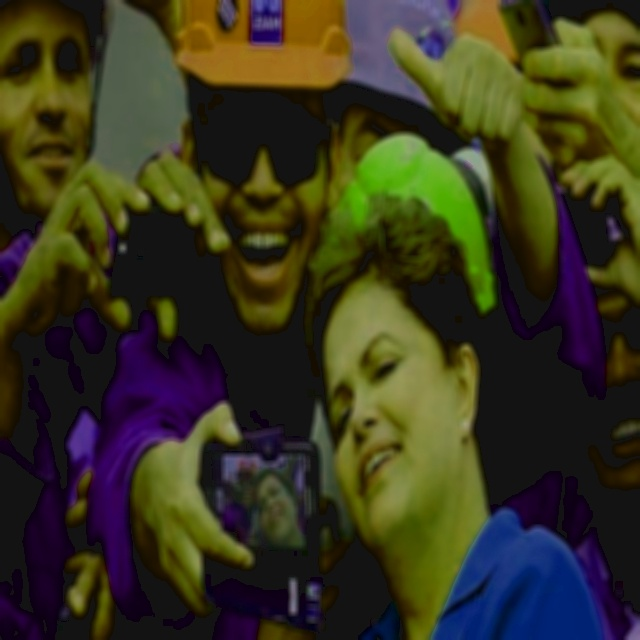Con_Casco: (173, 0, 348, 187)
